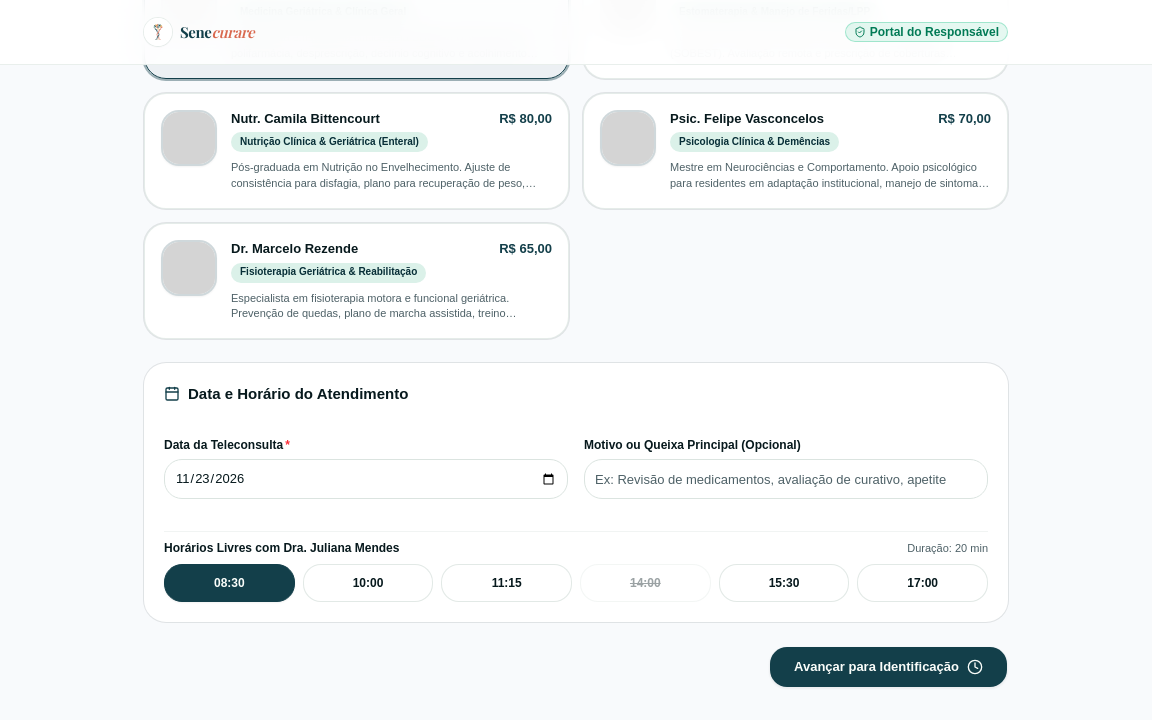
AgendarFamiliar Page (Portal do Responsável Financeiro) › conclui o pagamento via PIX/Cartão e confirma a teleconsulta na agenda
This screenshot has width=1152, height=720.
(page scrolled)
Click the button "Avançar para Identificação": (888, 668) left=769, top=646, right=1008, bottom=688
(page scrolled)
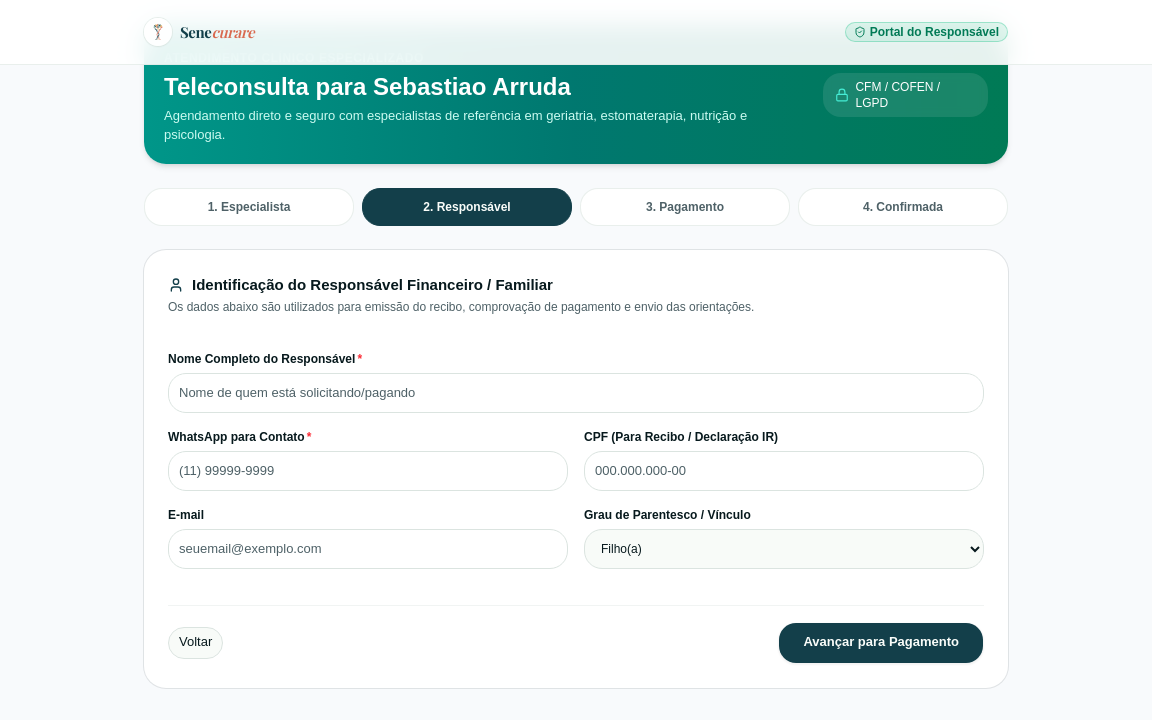
Preenche identificação
In the field with placeholder "Nome de quem está solicitando/pagando": (576, 393) left=168, top=373, right=984, bottom=413, type "Carlos Arruda (Filho)"
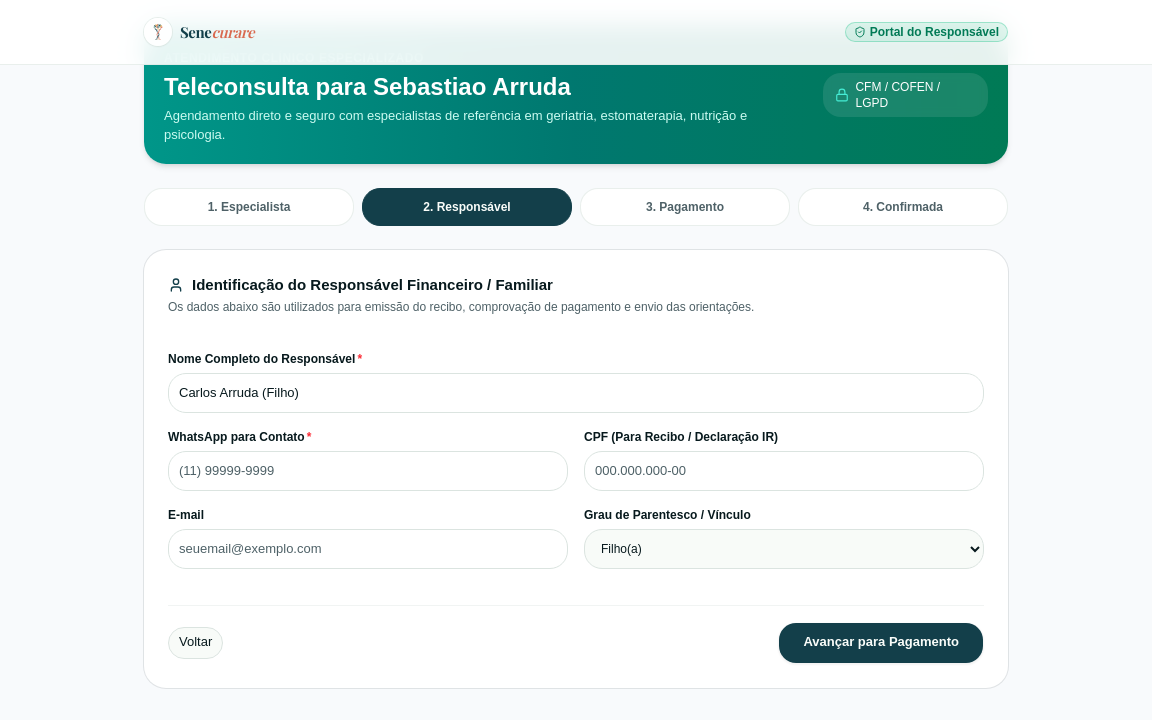
In the field with placeholder "(11) 99999-9999": (368, 471) left=168, top=451, right=568, bottom=491, type "11988887777"
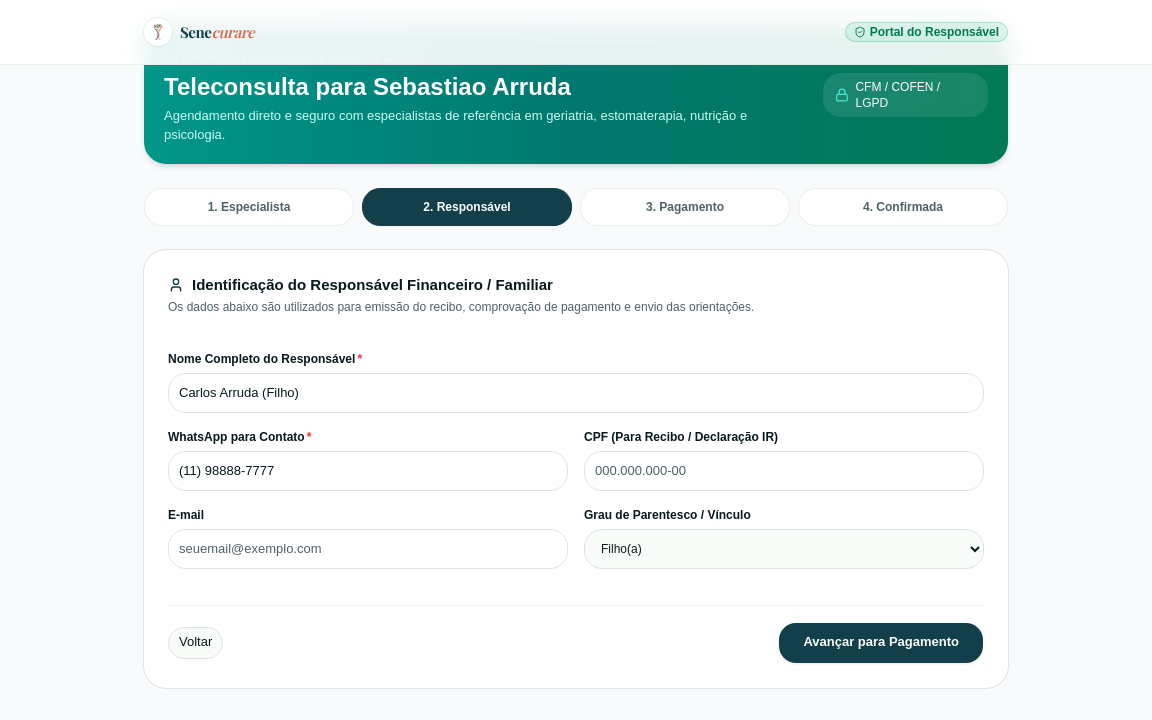
Click the button "Avançar para Pagamento": (881, 643) left=778, top=622, right=984, bottom=664
(page scrolled)
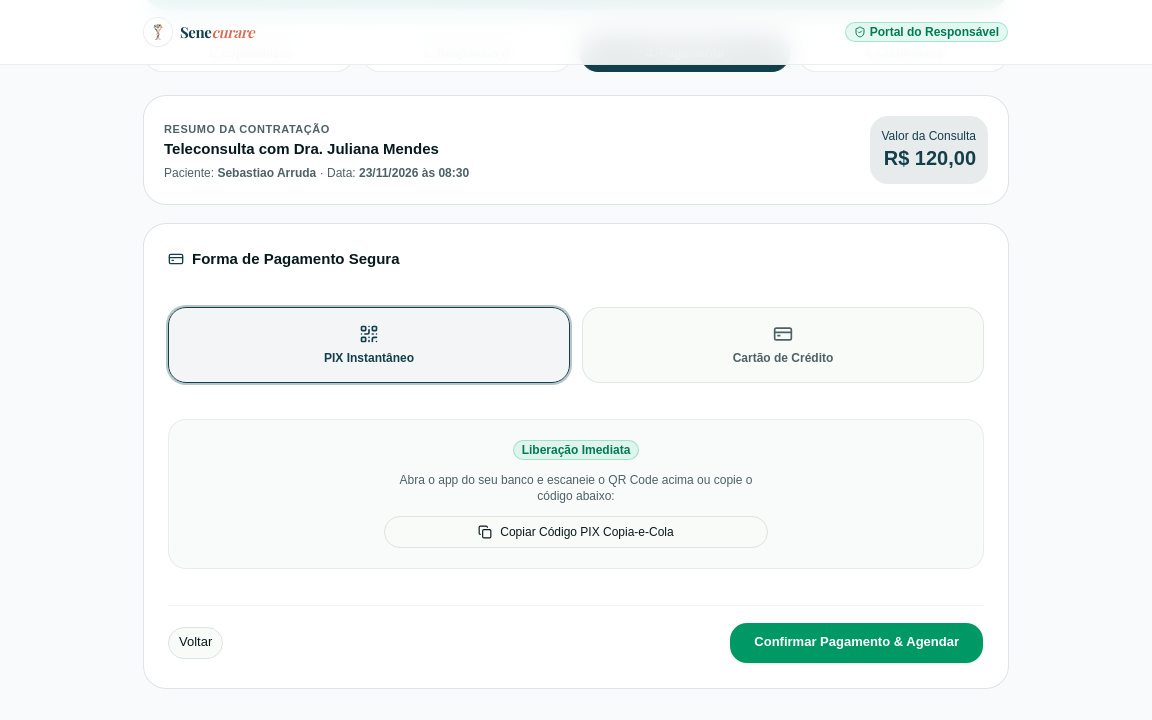
Expected: the heading "Forma de Pagamento Segura" is shown, left=168, top=250, right=400, bottom=267
Expected: the text "PIX Instantâneo" is shown, left=324, top=350, right=414, bottom=366
Confirma pagamento
Click the button "Confirmar Pagamento & Agendar": (857, 643) left=729, top=622, right=984, bottom=664
(page scrolled)
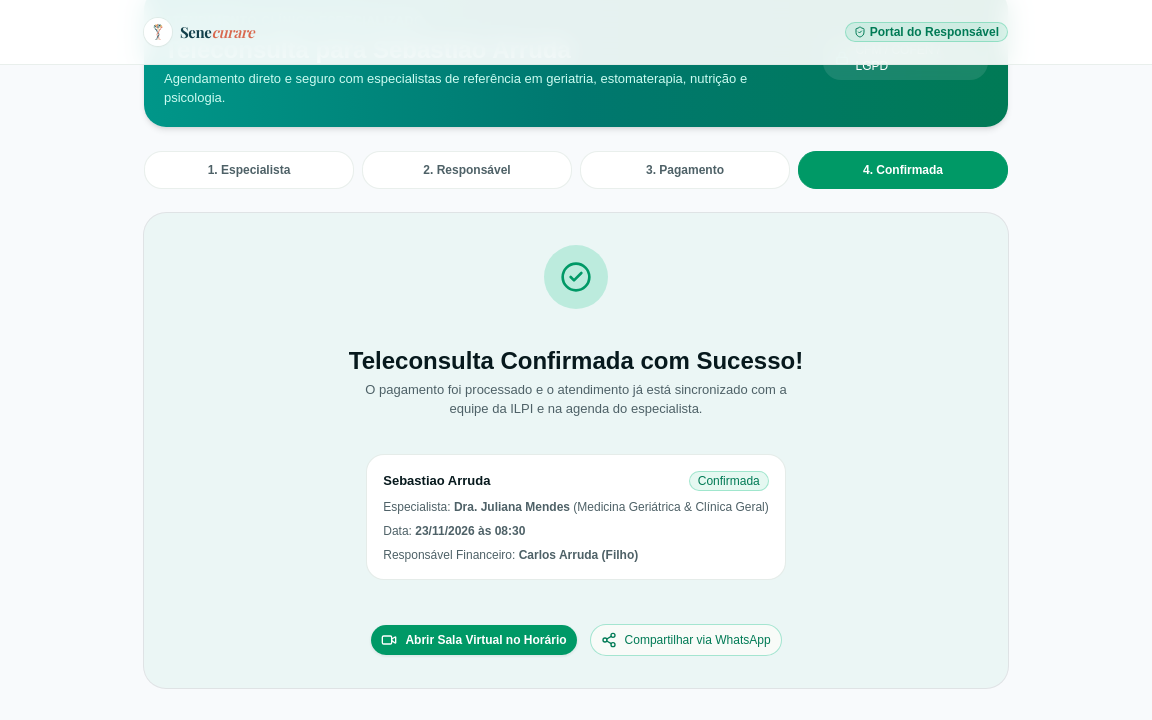
Expected: the heading "Teleconsulta Confirmada com Sucesso!" is shown, left=349, top=347, right=803, bottom=374
Expected: the link "Abrir Sala Virtual no Horário" is shown, left=370, top=624, right=578, bottom=656
